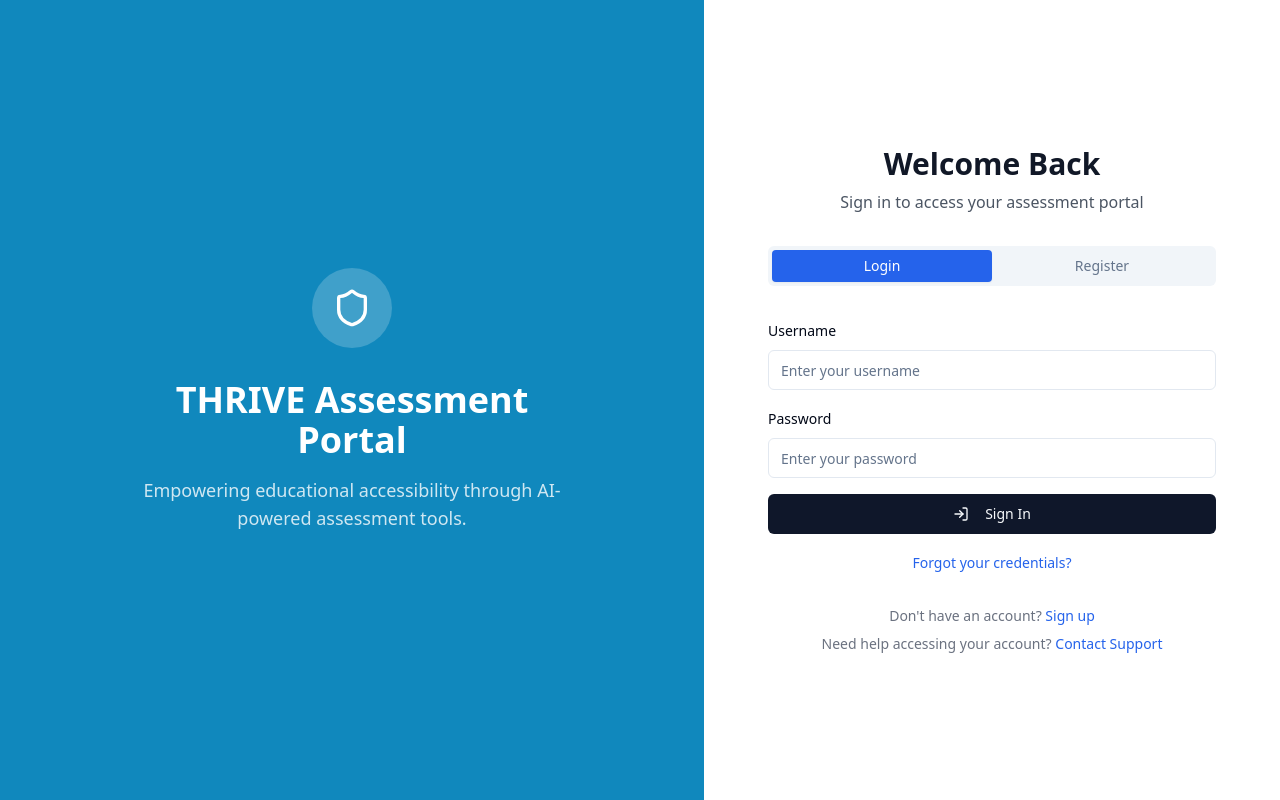
it: UnifiedLoginPage › Rate Limiting › should show rate limiting warning after max attempts
Type "testuser" into the field with test id "input-username" at (992, 370), box [768, 350, 1216, 390]
Type "wrongpass" into the password field with test id "input-password" at (992, 458), box [768, 438, 1216, 478]
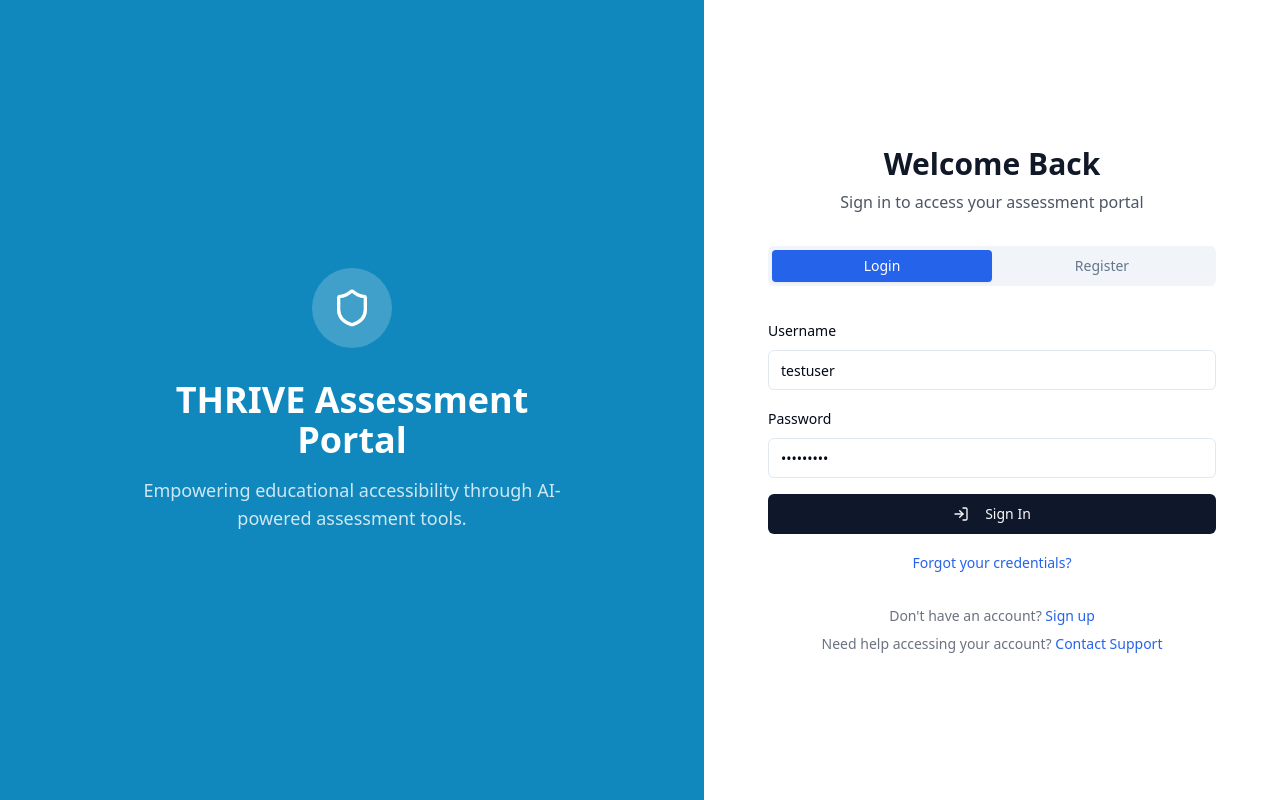
Click the button with test id "button-sign-in" at (992, 514), box [768, 494, 1216, 534]
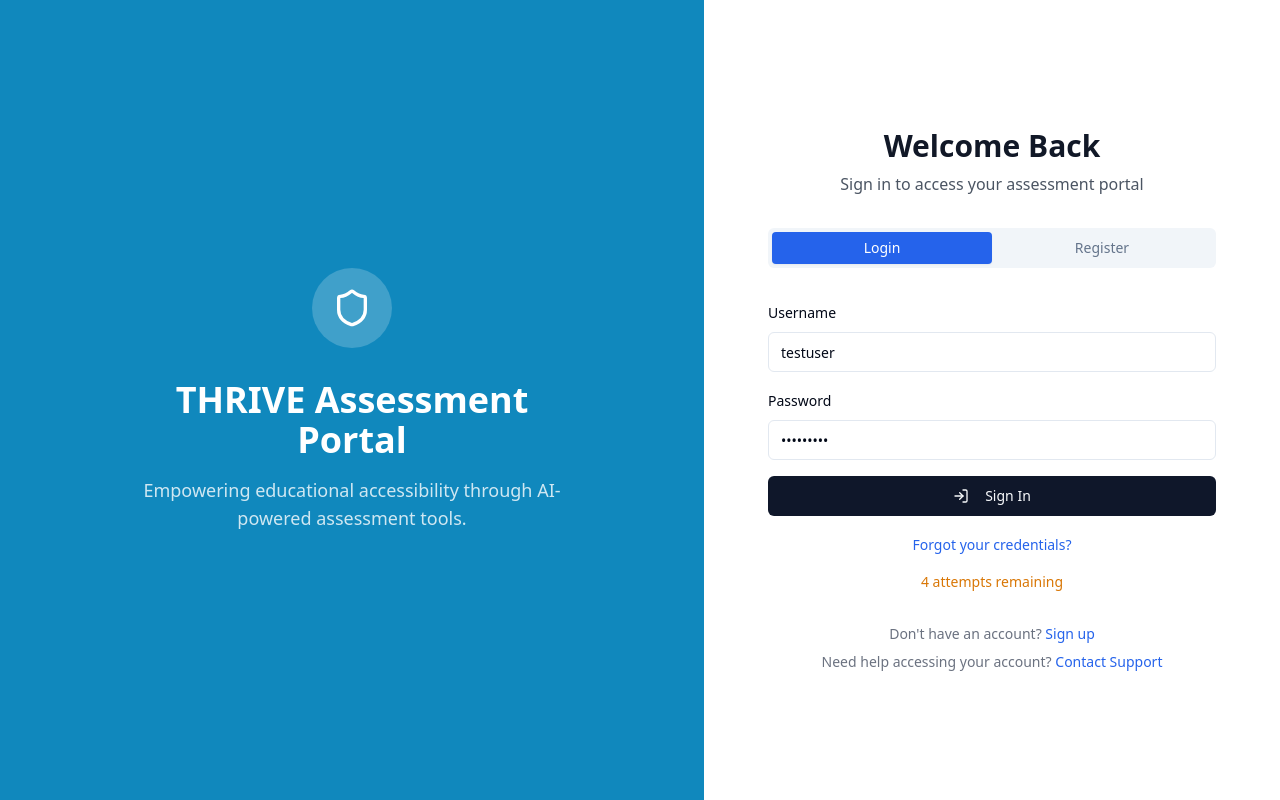
Click the button with test id "button-sign-in" at (992, 496), box [768, 476, 1216, 516]
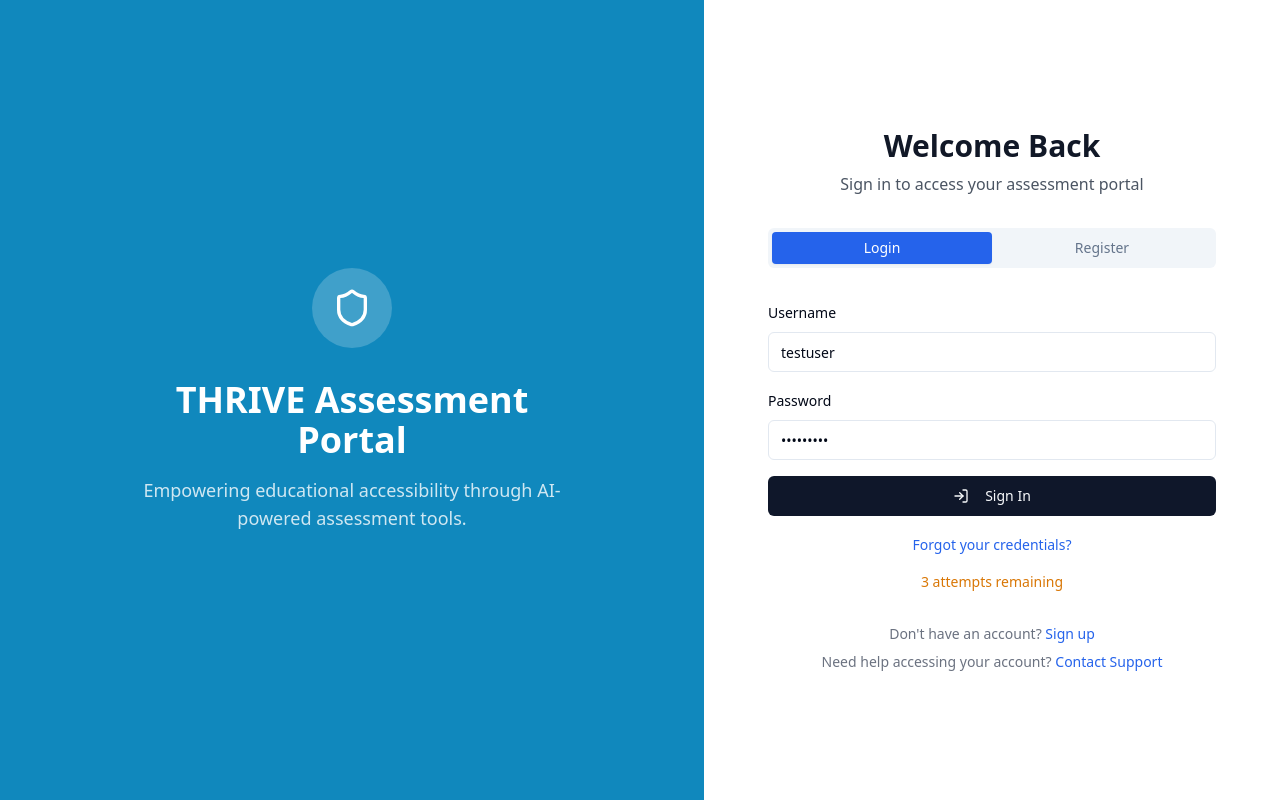
Click the button with test id "button-sign-in" at (992, 496), box [768, 476, 1216, 516]
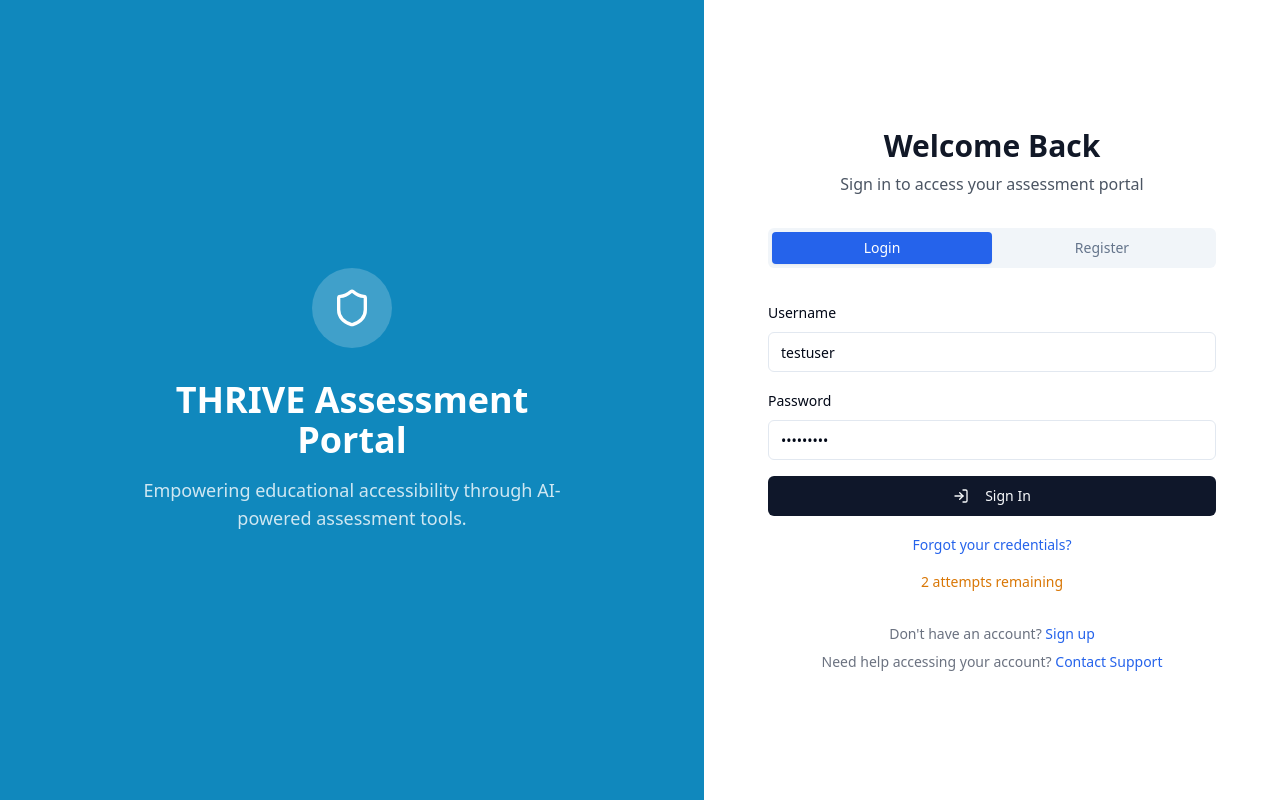
Click the button with test id "button-sign-in" at (992, 496), box [768, 476, 1216, 516]
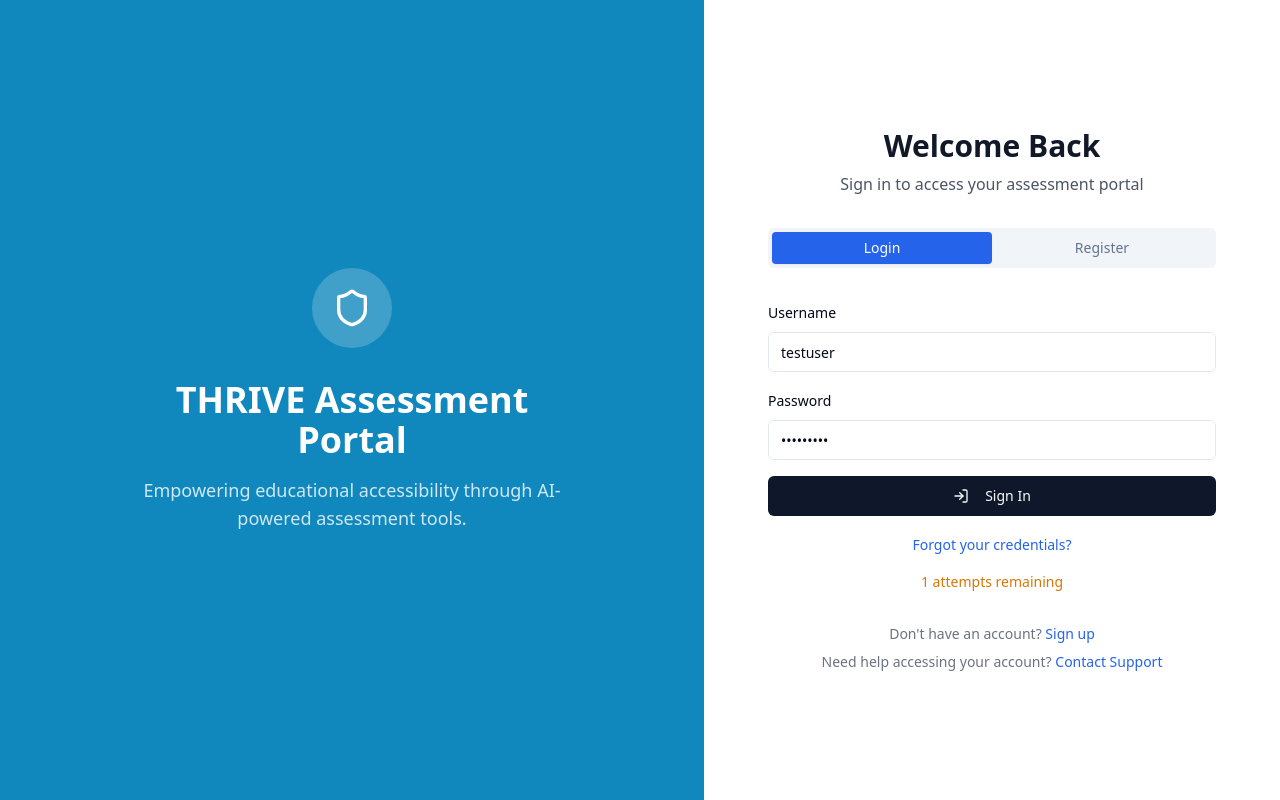
Click the button with test id "button-sign-in" at (992, 496), box [768, 476, 1216, 516]
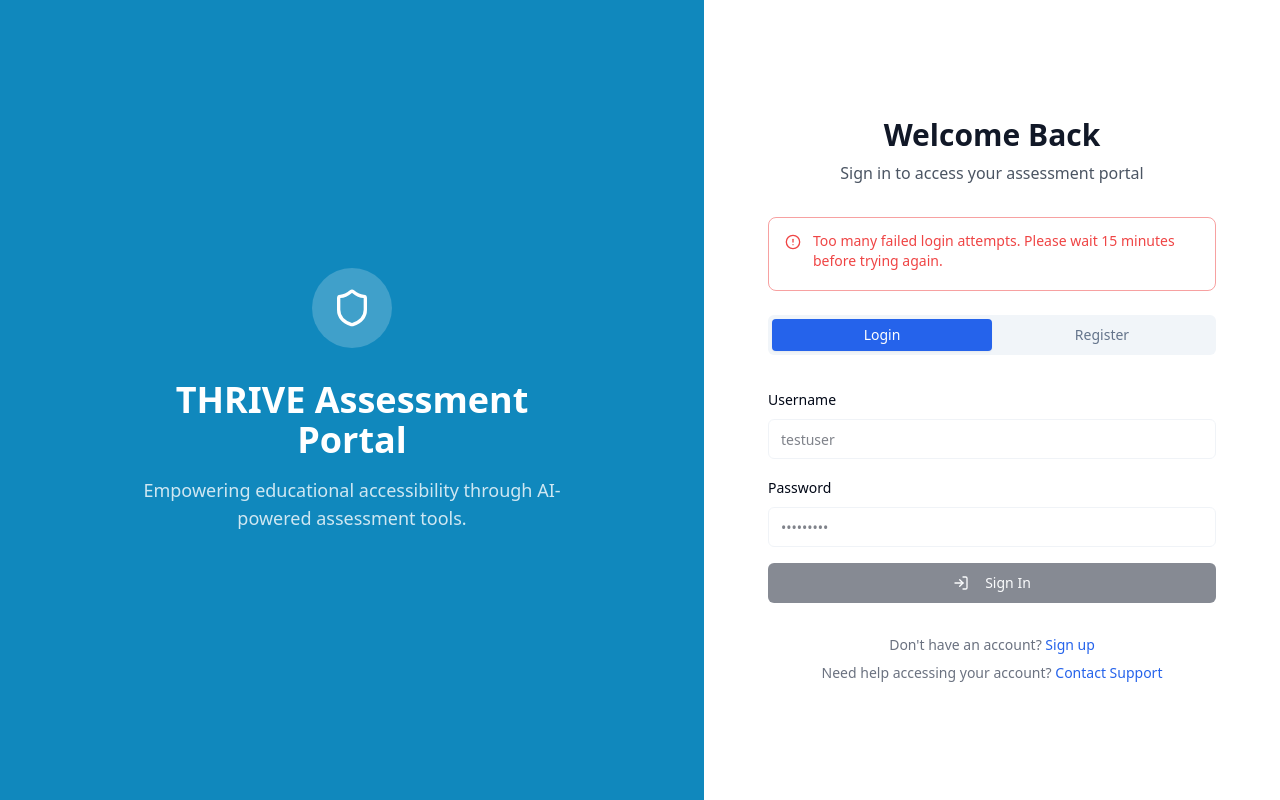
Expected: the text "Too many failed login attempts" is shown, [813, 231, 1175, 270]
Expected: the button with test id "button-sign-in" is disabled, [768, 563, 1216, 603]
